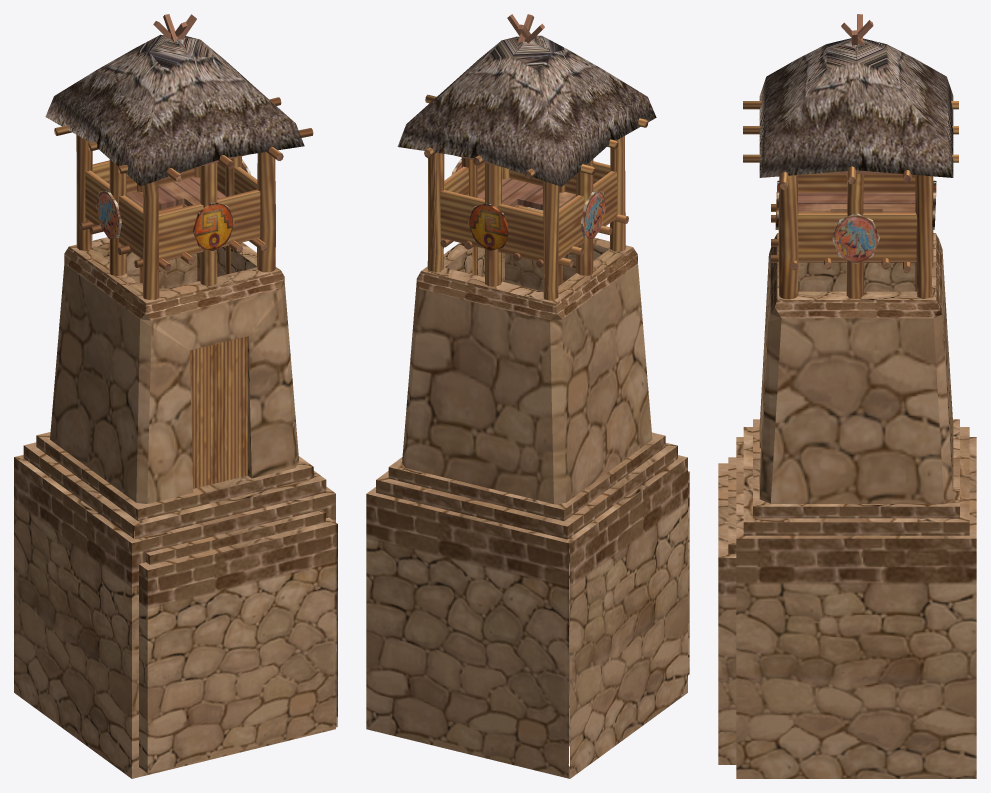
File: villager_tower.dae
The picture shows the model from 3 angles, left to right: view 1: azimuth 30°, elevation 25°; view 2: azimuth 150°, elevation 25°; view 3: azimuth 270°, elevation 25°; orthographic projection. The views are drawn at different scales.
Parts seen in each view (by area): view 1: VillagerTower; view 2: VillagerTower; view 3: VillagerTower.
Boxes of the visible parts, box(x1,y1,x2,y2) form: VillagerTower: box(14, 14, 337, 778); VillagerTower: box(366, 14, 689, 778); VillagerTower: box(718, 14, 976, 778).
Bounding box in the file's own units: 7.64 × 8.22 × 24.77.
